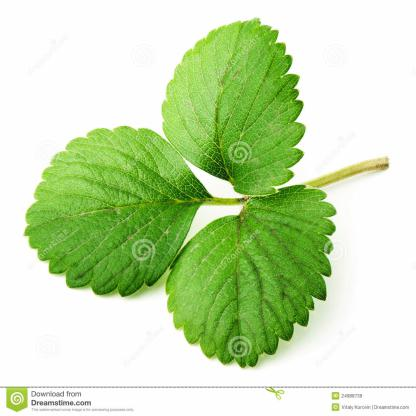Strawberry leaf: (13, 123, 205, 296), (168, 177, 336, 367), (160, 15, 306, 201)
